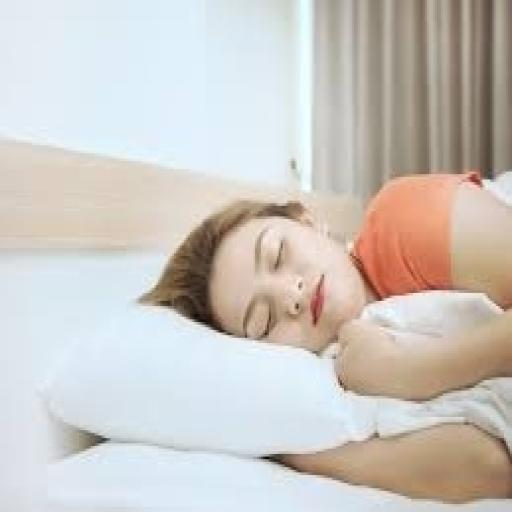sleeping: (136, 164, 510, 504)
